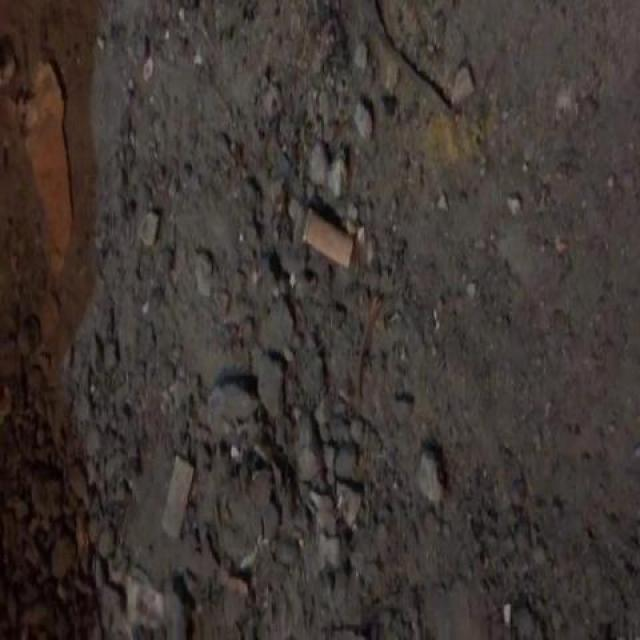non-organic waste: (293, 200, 363, 276)
